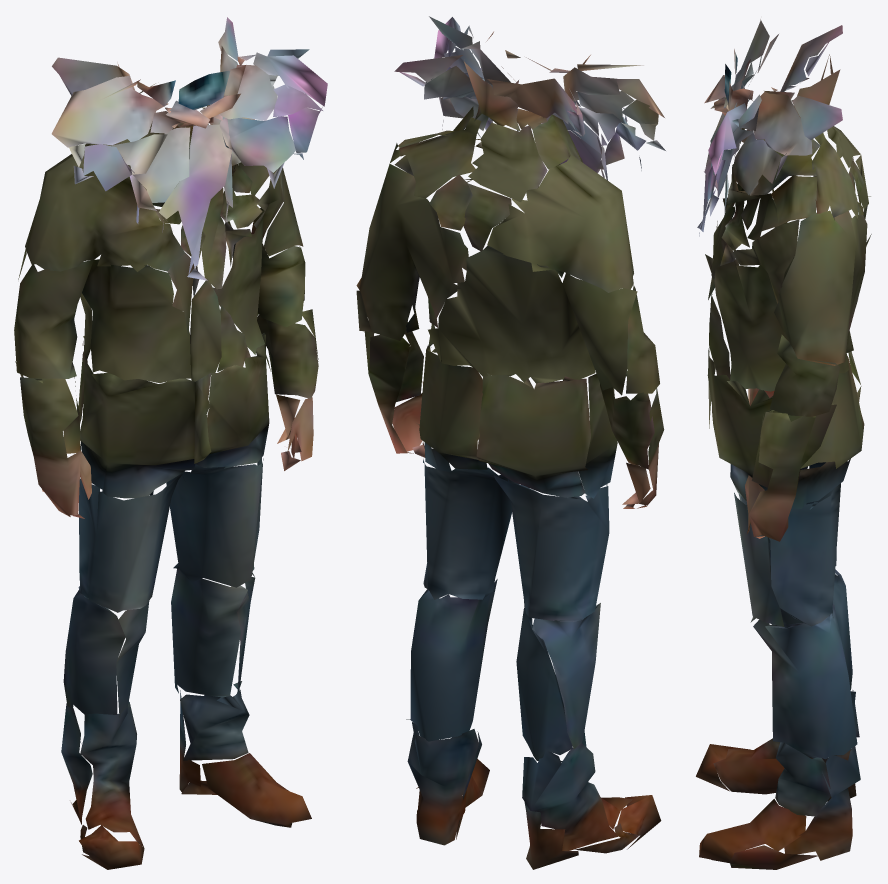
File: crowd_cabbie_body.glb
3 renders of one model, left to right at view 1: azimuth 30°, elevation 25°; view 2: azimuth 150°, elevation 25°; view 3: azimuth 270°, elevation 25°, orthographic. The views are drawn at different scales.
Visible parts, largest first — view 1: tripo_node_a42e675f-a73e-45f9-b257-74cbc0c52e2a; view 2: tripo_node_a42e675f-a73e-45f9-b257-74cbc0c52e2a; view 3: tripo_node_a42e675f-a73e-45f9-b257-74cbc0c52e2a.
Part boxes in pixels (x1,y1,x2,y2): tripo_node_a42e675f-a73e-45f9-b257-74cbc0c52e2a: (14, 17, 327, 869); tripo_node_a42e675f-a73e-45f9-b257-74cbc0c52e2a: (356, 16, 665, 869); tripo_node_a42e675f-a73e-45f9-b257-74cbc0c52e2a: (696, 19, 871, 869).
Bounding box in the file's own units: 0.3152 × 0.8092 × 0.1713.
1 material, 1 textured.
